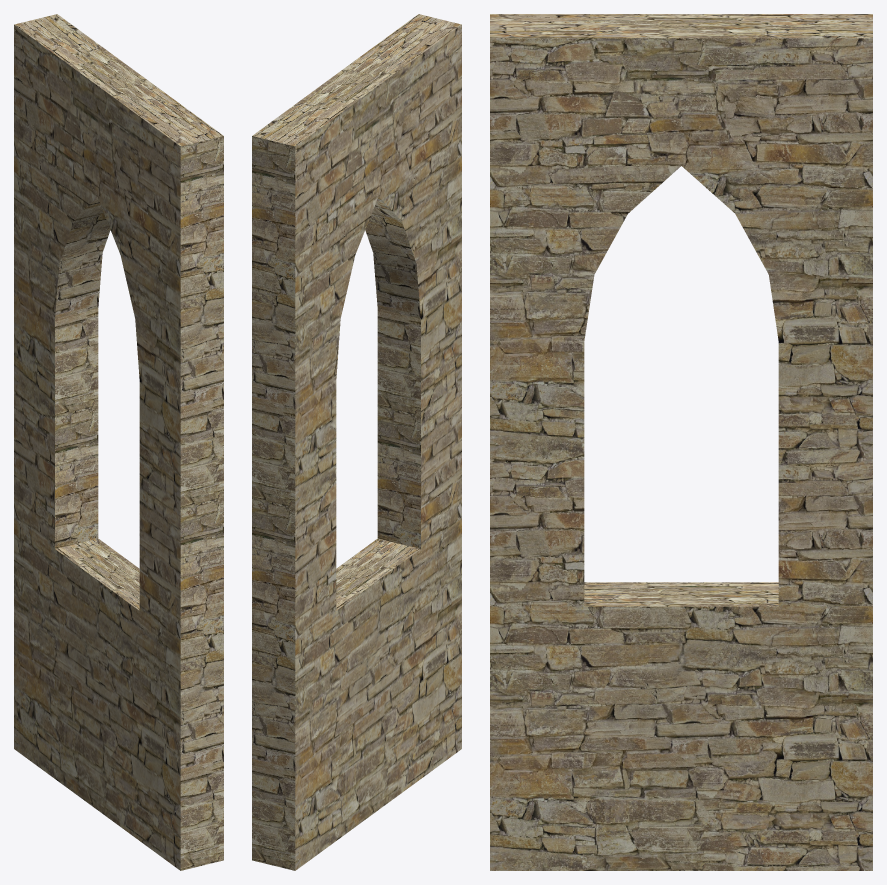
The model's file is wallwindow.FBX.
The picture shows the model from 3 angles, left to right: view 1: azimuth 30°, elevation 25°; view 2: azimuth 150°, elevation 25°; view 3: azimuth 270°, elevation 25°; orthographic projection. The views are drawn at different scales.
Parts seen in each view (by area): view 1: Box096; view 2: Box096; view 3: Box096.
Boxes of the visible parts, left/top/right/bottom form: Box096: left=14, top=14, right=223, bottom=870; Box096: left=252, top=14, right=461, bottom=870; Box096: left=490, top=14, right=872, bottom=870.
Size of the model in its own units: 0.15 by 1 by 2.4.
1 material, 1 textured.
